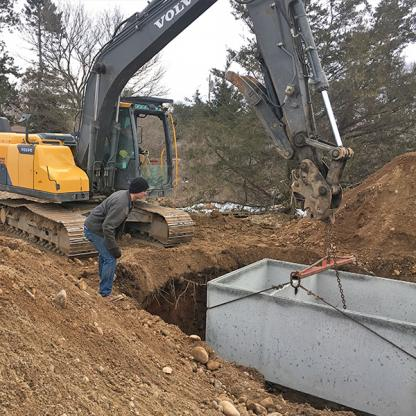excavator: (2, 2, 361, 250)
